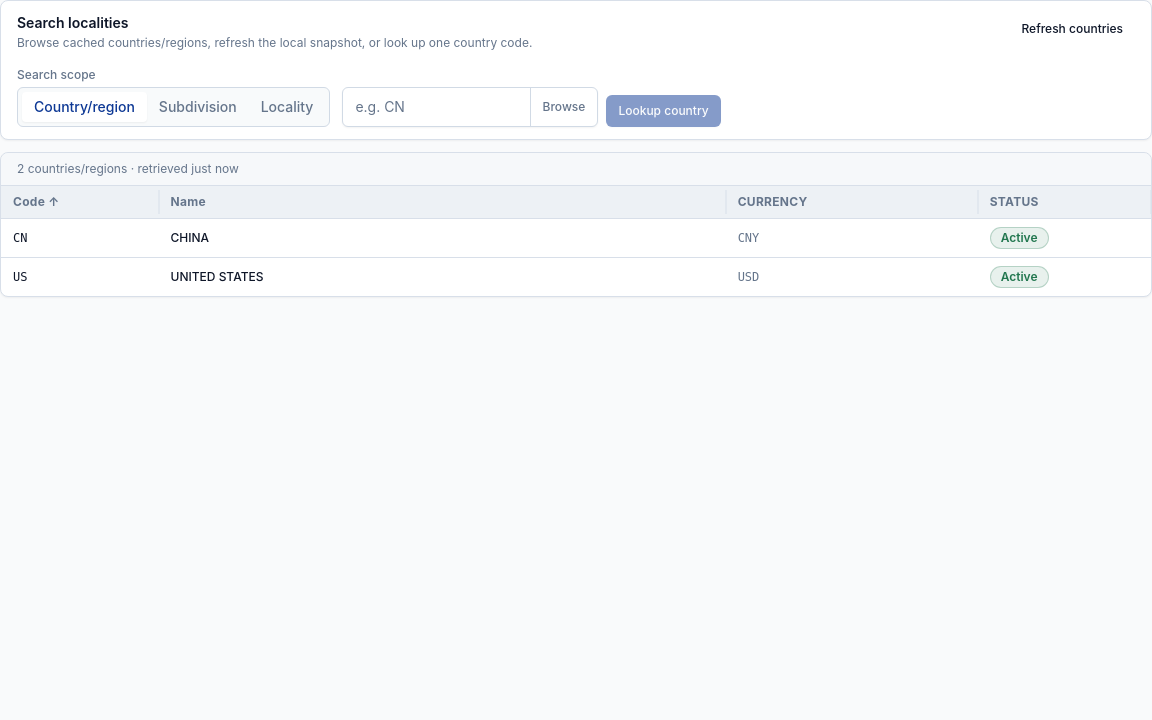
Scenario: LocalitiesView › opens a country details dialog from the country list
Click the button with aria-label "view country/region CN by name" at (190, 238), box left=170, top=230, right=209, bottom=246
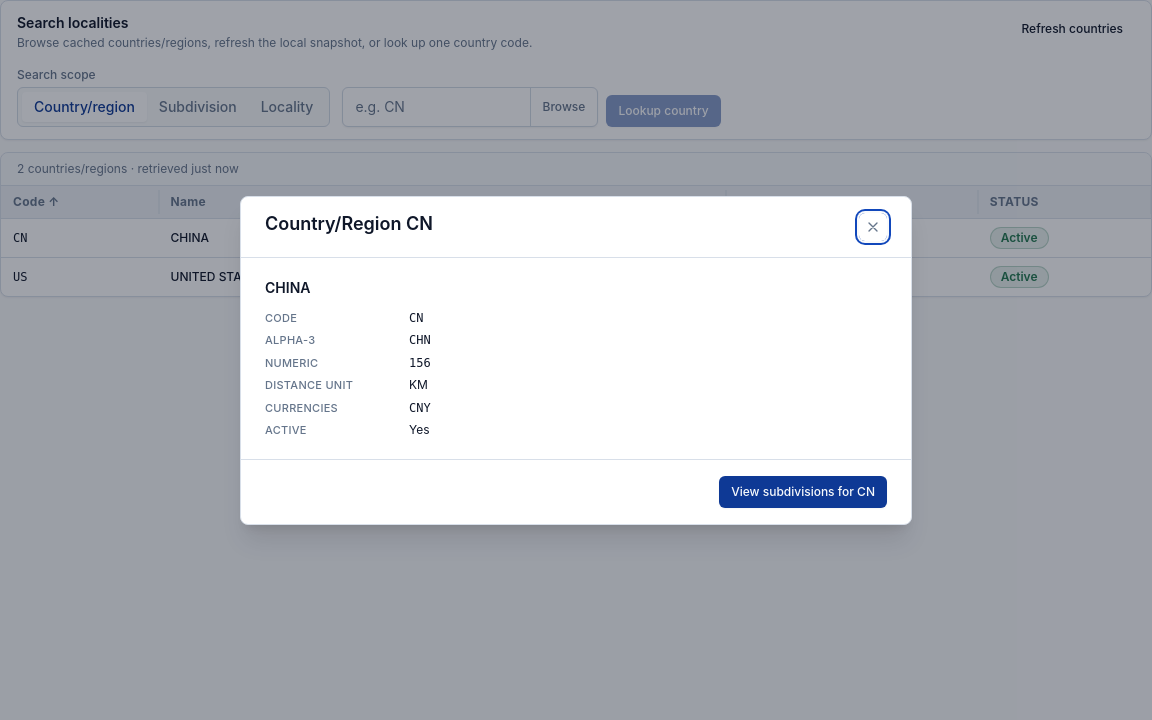
Now the text "CHN" is shown, box left=409, top=333, right=431, bottom=347
Now the button "View subdivisions for CN" is shown, box left=719, top=476, right=887, bottom=508
Click the button named "Close" at (873, 226), box left=859, top=212, right=887, bottom=240
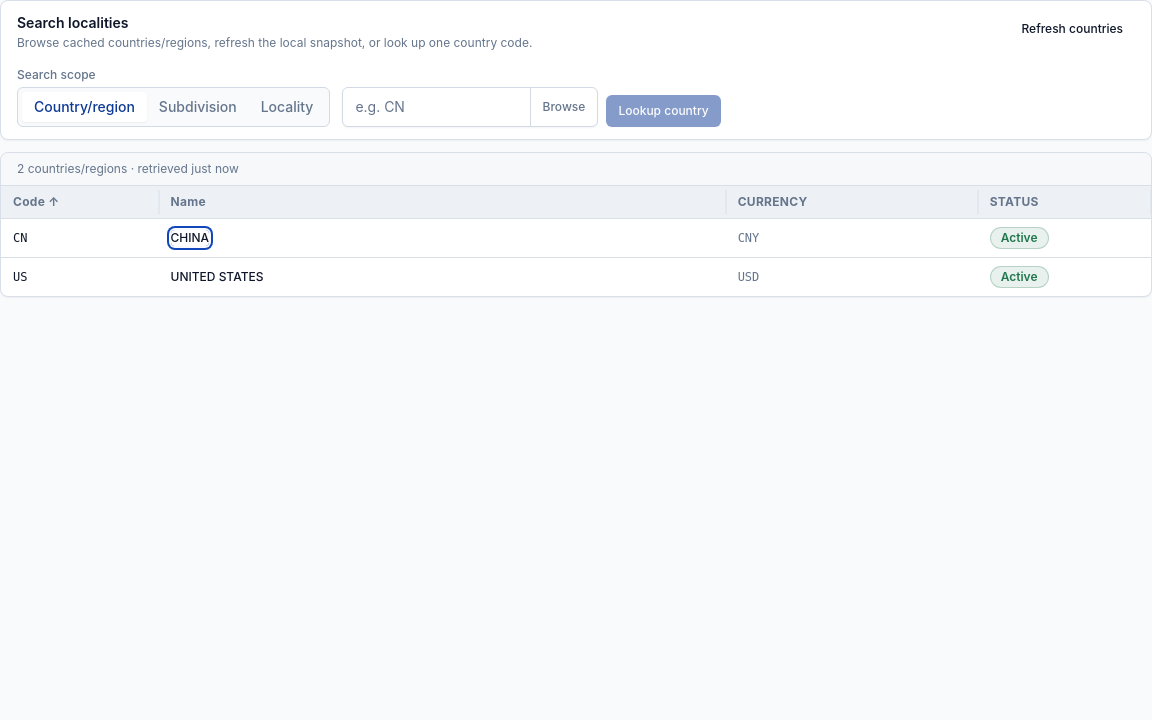
Click the button with aria-label "view country/region CN by code" at (20, 238), box left=13, top=230, right=28, bottom=246
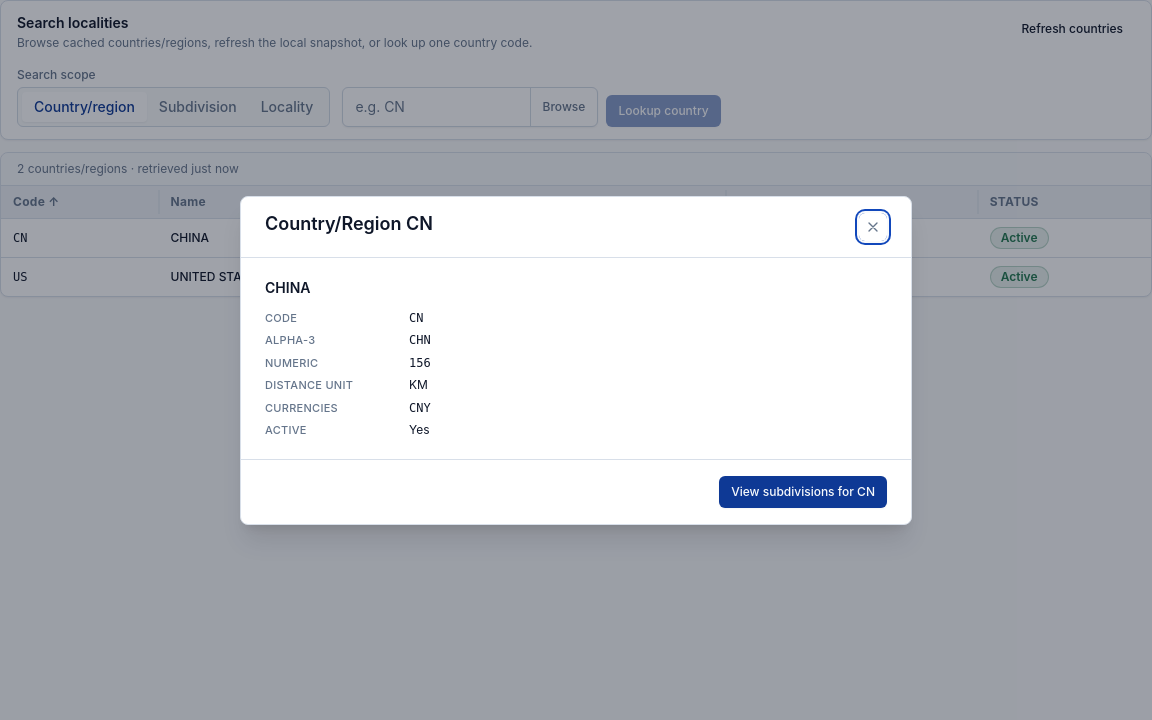
Now the dialog "Country/Region CN" is shown, box left=240, top=196, right=912, bottom=524
